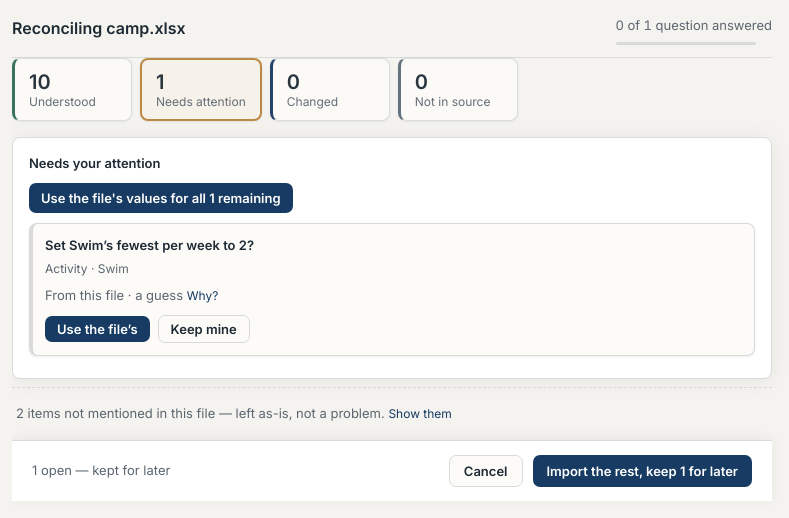
Test case: resolving a decision › updates the done count and stages a confirmed decision, without writing anything (read-only reconciliation)
Expected: the text "0 of 1 question answered" is shown, [616,16,772,36]
What coordinates should you click on to do the following:
click the button "Use the file’s"
I would click on:
 (97, 329)
Its box is [45,316,150,342].
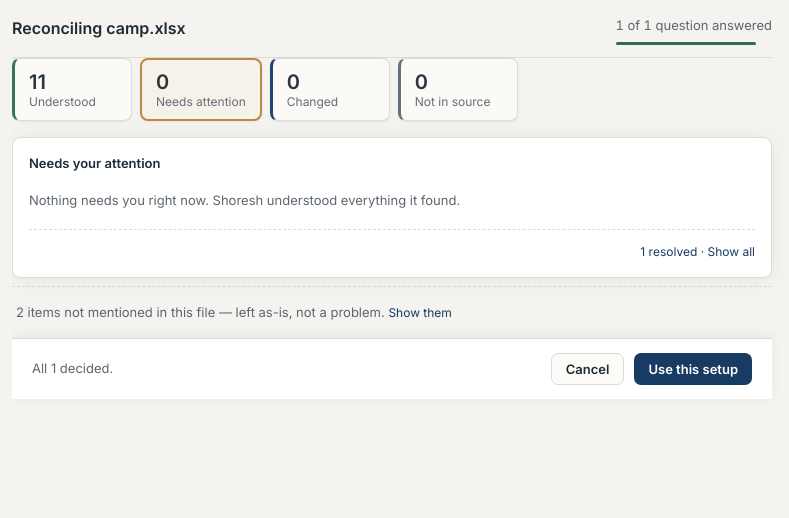
Expected: the text "1 of 1 question answered" is shown, [616,16,772,36]
Expected: the text "All 1 decided." is shown, [32,359,113,379]
